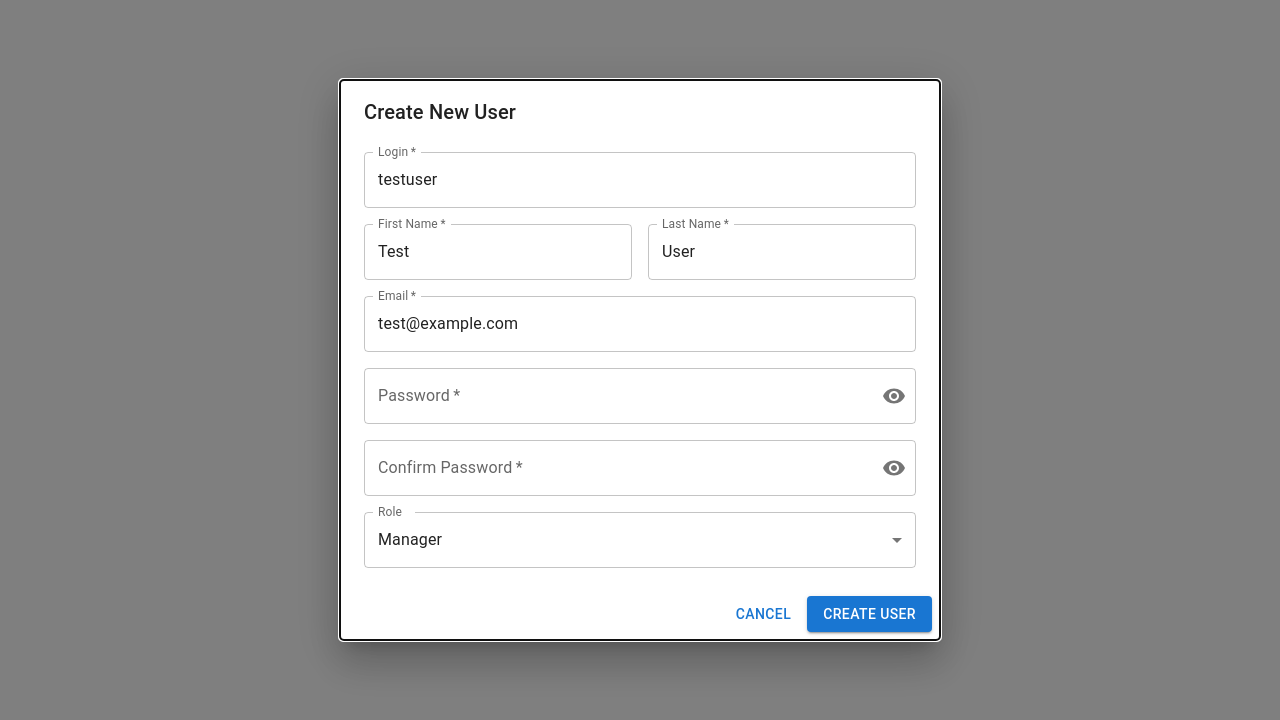
it: UserDialog › shows correct role options from API
Note: Open the select dropdown
Press the mouse on the dropdown named "role" at point(410, 540), box 378,530 -> 442,549
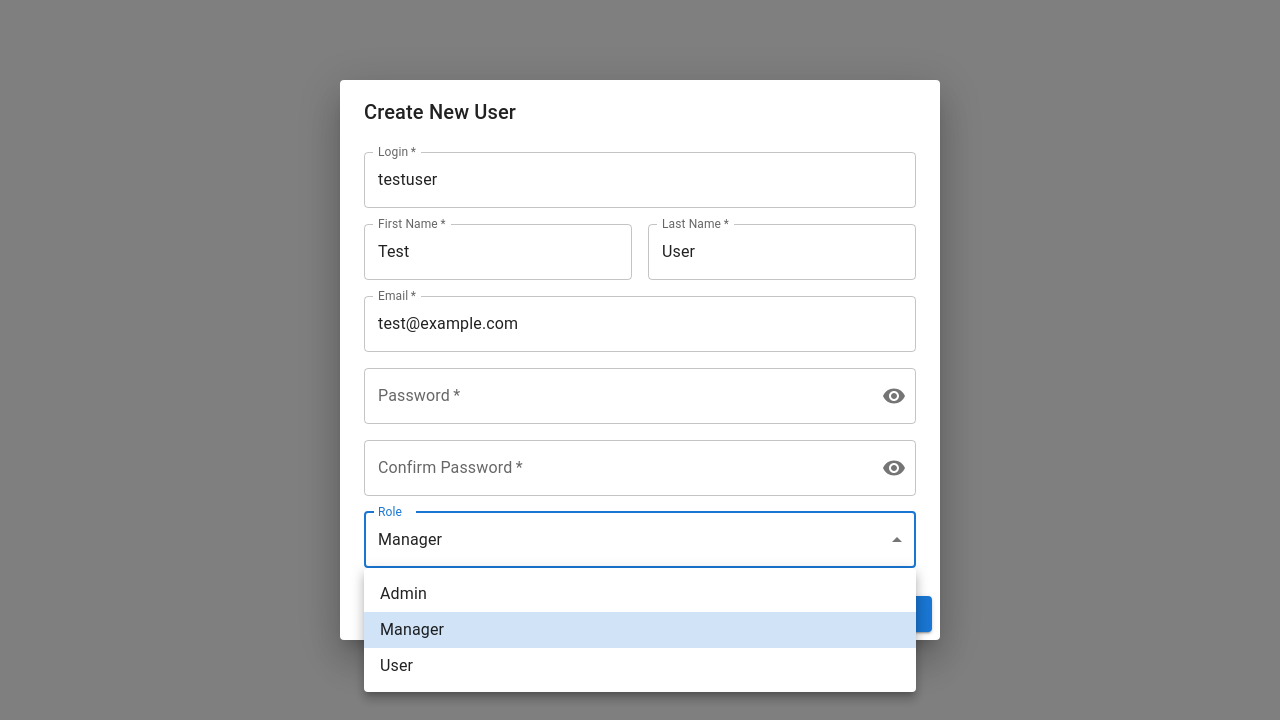
Check: the option "Admin" is shown, box 380,584 -> 427,603
Check: the option "Manager" is shown, box 364,612 -> 916,648
Check: the option "User" is shown, box 380,656 -> 413,675
